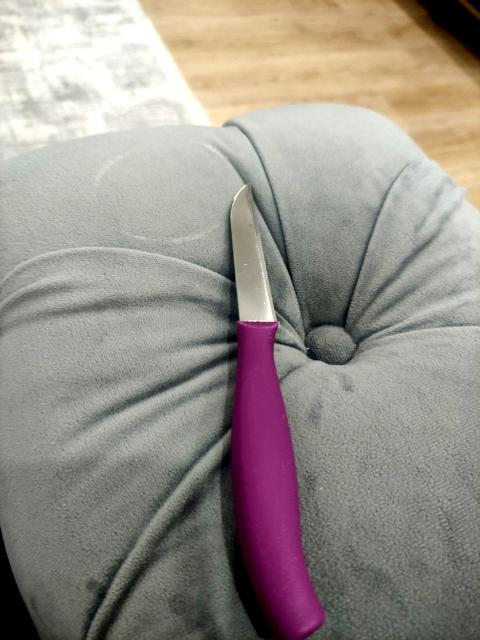Knife: (231, 185, 323, 639)
